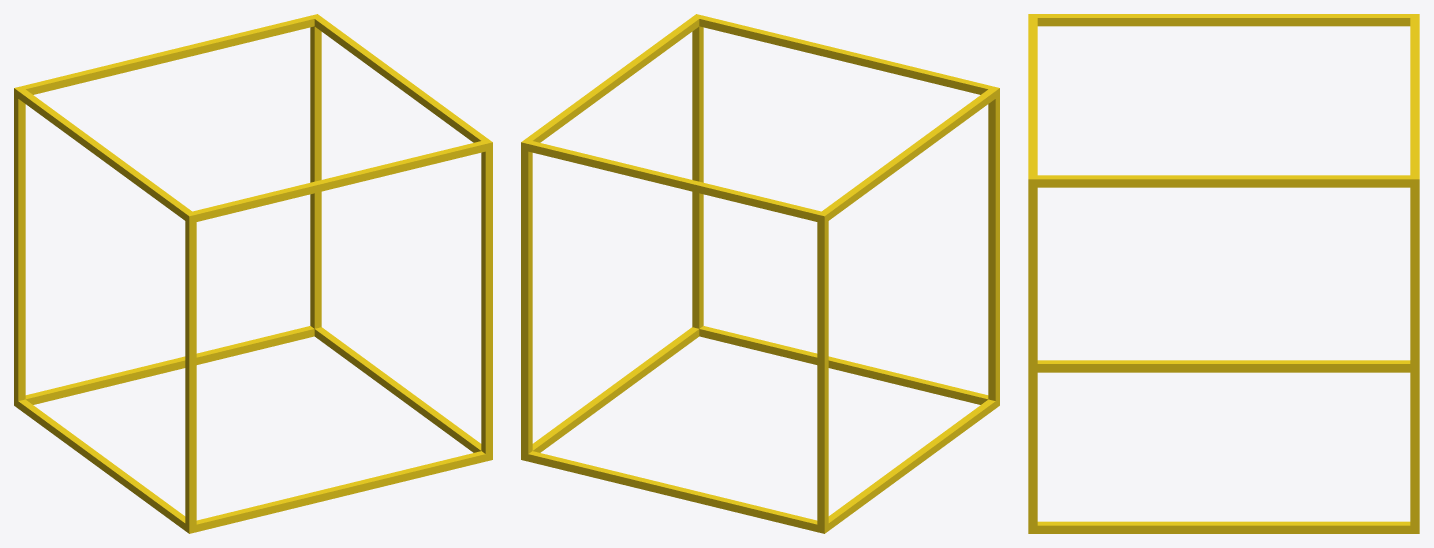
File: tinker.obj
The picture shows the model from 3 angles, left to right: view 1: azimuth 30°, elevation 25°; view 2: azimuth 150°, elevation 25°; view 3: azimuth 270°, elevation 25°; orthographic projection. The views are drawn at different scales.
Parts seen in each view (by area): view 1: obj_0; view 2: obj_0; view 3: obj_0.
Part boxes in pixels (x1,y1,x2,y2): obj_0: (14, 14, 492, 533); obj_0: (521, 14, 999, 533); obj_0: (1028, 14, 1419, 533).
Size of the model in its own units: 42 by 42 by 42.
